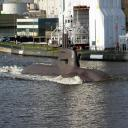submarine: (21, 34, 113, 83)
